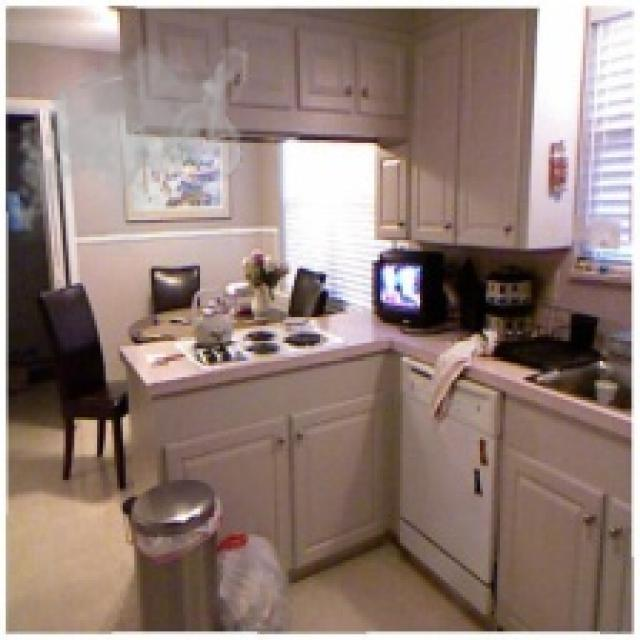Smoke: (2, 34, 248, 257)
